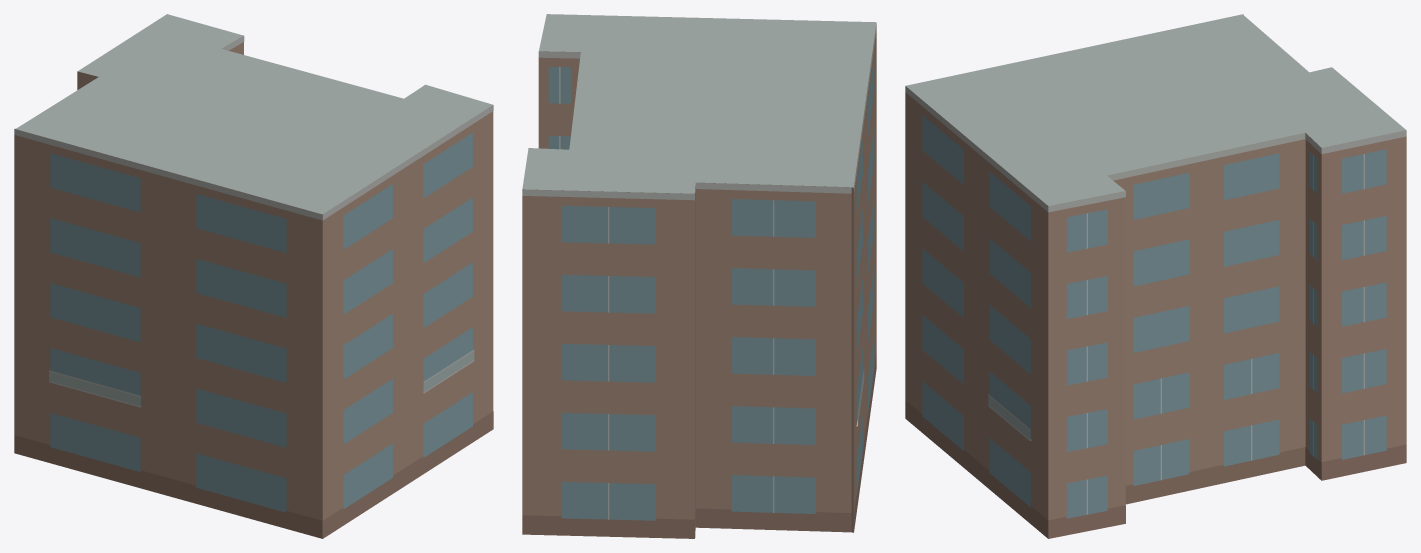
File: survey-upis-32992754.glb
3 renders of one model, left to right at view 1: azimuth 30°, elevation 25°; view 2: azimuth 150°, elevation 25°; view 3: azimuth 270°, elevation 25°, orthographic. The views are drawn at different scales.
Visible parts, largest first — view 1: survey-upis-32992754.tmp; view 2: survey-upis-32992754.tmp; view 3: survey-upis-32992754.tmp.
Boxes of the visible parts, x1,y1,x2,y2 form: survey-upis-32992754.tmp: [14, 14, 493, 538]; survey-upis-32992754.tmp: [522, 14, 876, 538]; survey-upis-32992754.tmp: [905, 14, 1406, 538].
Bounding box in the file's own units: 16.11 × 13 × 17.76.
